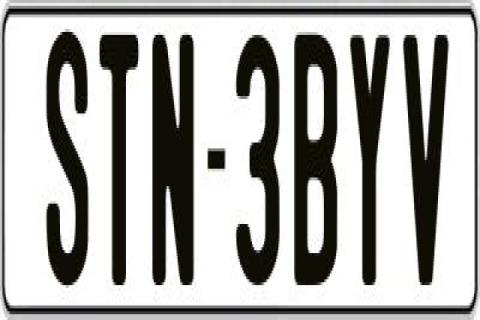0: (232, 32, 276, 291)
B: (294, 35, 338, 285)
N: (148, 29, 196, 282)
S: (46, 23, 88, 280)
T: (96, 29, 138, 294)
V: (401, 35, 453, 297)
Y: (350, 32, 390, 288)
